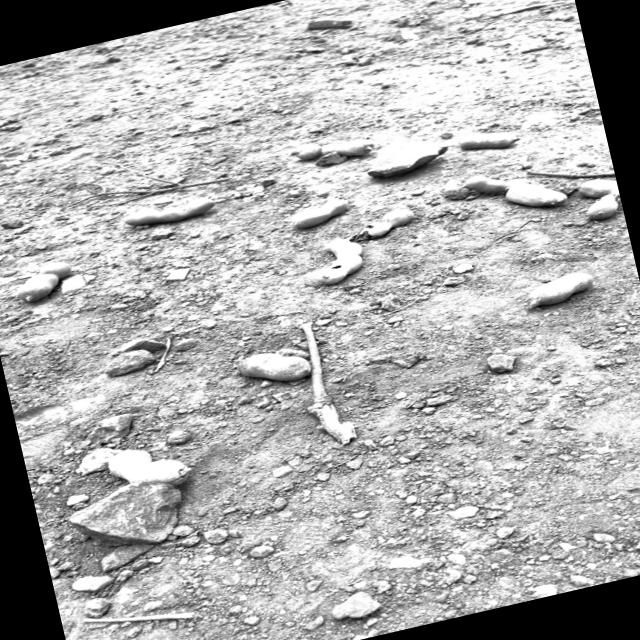tamarind: (68, 424, 204, 510), (460, 154, 573, 228), (115, 182, 262, 234), (232, 336, 326, 396), (290, 230, 374, 292), (291, 125, 384, 170), (8, 254, 80, 307), (524, 266, 600, 312), (452, 121, 530, 162), (280, 195, 356, 236), (576, 172, 626, 229), (358, 203, 421, 240)
